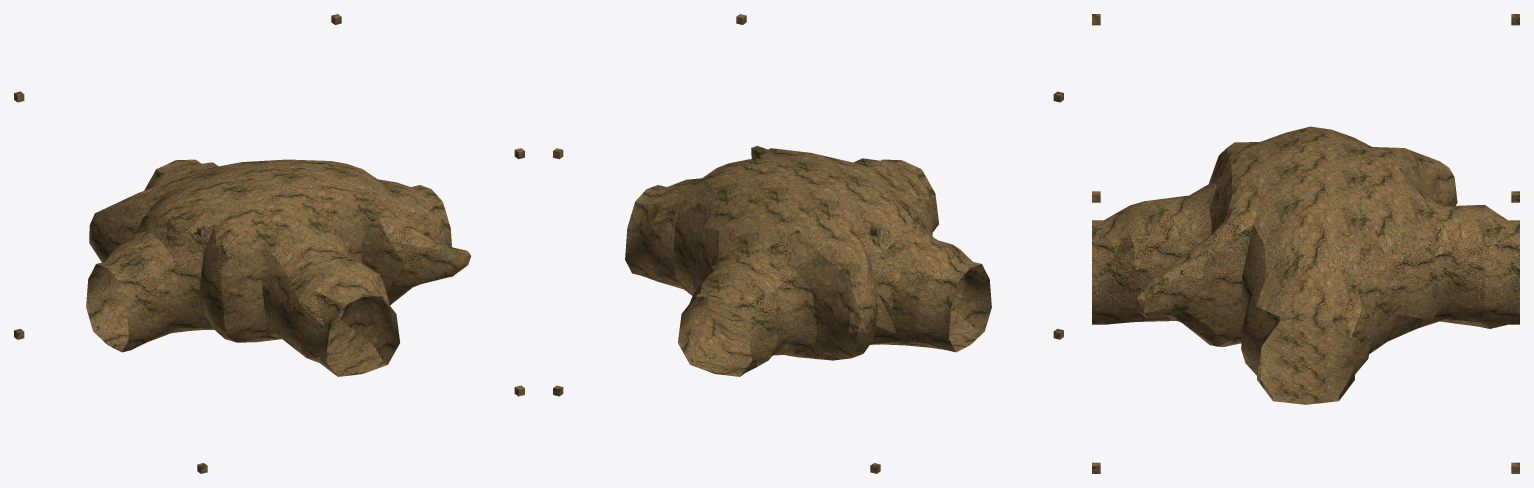
Rendered from lba_4c.glb.
3 views of the same model, side by side, from view 1: azimuth 30°, elevation 25°; view 2: azimuth 150°, elevation 25°; view 3: azimuth 270°, elevation 25° (orthographic). The views are drawn at different scales.
Visible parts, largest first — view 1: lba_4c; view 2: lba_4c; view 3: lba_4c.
Boxes of the visible parts, x1,y1,x2,y2 form: lba_4c: [14, 14, 524, 473]; lba_4c: [553, 14, 1063, 473]; lba_4c: [1092, 14, 1519, 473].
Bounding box in the file's own units: 15 × 10.8 × 15.
1 material, 1 textured.
